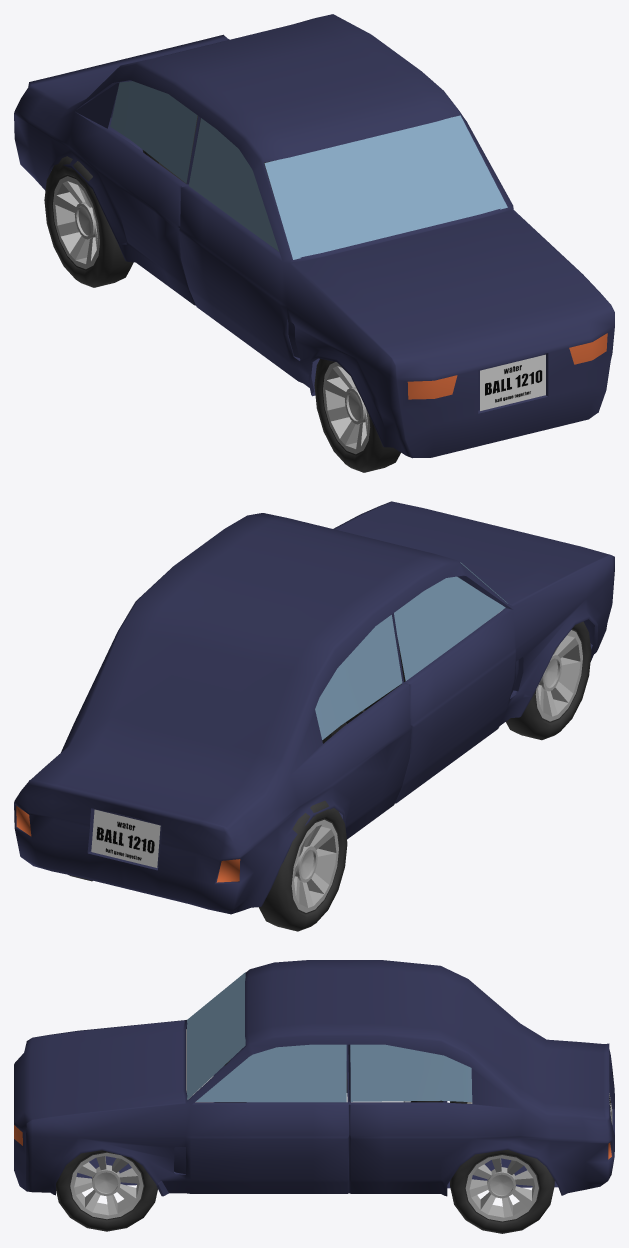
File: kuruma_morii.fbx
3 renders of one model, top to bottom at view 1: azimuth 30°, elevation 25°; view 2: azimuth 150°, elevation 25°; view 3: azimuth 270°, elevation 25°, orthographic. The views are drawn at different scales.
Visible parts, largest first — view 1: hontai, Plane005, Plane004, Plane002, taiya_soto004, taiya_naka004, taiya_naka006, pure-to, taiya_soto006; view 2: hontai, Plane002, Plane004, taiya_soto004, taiya_naka004, pure-to001, taiya_naka006, taiya_soto006; view 3: hontai, Plane001, Plane003, Plane005, taiya_naka005, taiya_naka001, taiya_soto001, taiya_soto005.
Boxes of the visible parts, x1=… form: hontai: x1=14, y1=14, x2=614, y2=458; Plane005: x1=264, y1=115, x2=507, y2=259; Plane004: x1=110, y1=81, x2=197, y2=183; Plane002: x1=188, y1=118, x2=279, y2=251; taiya_soto004: x1=44, y1=156, x2=133, y2=287; taiya_naka004: x1=53, y1=176, x2=99, y2=269; taiya_naka006: x1=323, y1=362, x2=370, y2=454; pure-to: x1=480, y1=354, x2=545, y2=410; taiya_soto006: x1=314, y1=359, x2=400, y2=472; hontai: x1=14, y1=501, x2=614, y2=914; Plane002: x1=394, y1=576, x2=505, y2=680; Plane004: x1=315, y1=615, x2=402, y2=739; taiya_soto004: x1=258, y1=800, x2=347, y2=931; taiya_naka004: x1=291, y1=819, x2=338, y2=912; pure-to001: x1=91, y1=809, x2=160, y2=867; taiya_naka006: x1=535, y1=630, x2=582, y2=721; taiya_soto006: x1=506, y1=621, x2=591, y2=740; hontai: x1=14, y1=960, x2=614, y2=1196; Plane001: x1=195, y1=1044, x2=346, y2=1102; Plane003: x1=350, y1=1044, x2=472, y2=1102; Plane005: x1=187, y1=972, x2=245, y2=1099; taiya_naka005: x1=70, y1=1152, x2=143, y2=1219; taiya_naka001: x1=465, y1=1155, x2=538, y2=1221; taiya_soto001: x1=450, y1=1149, x2=554, y2=1233; taiya_soto005: x1=56, y1=1150, x2=157, y2=1231.
Bounding box in the file's own units: 61.86 × 61.87 × 172.
